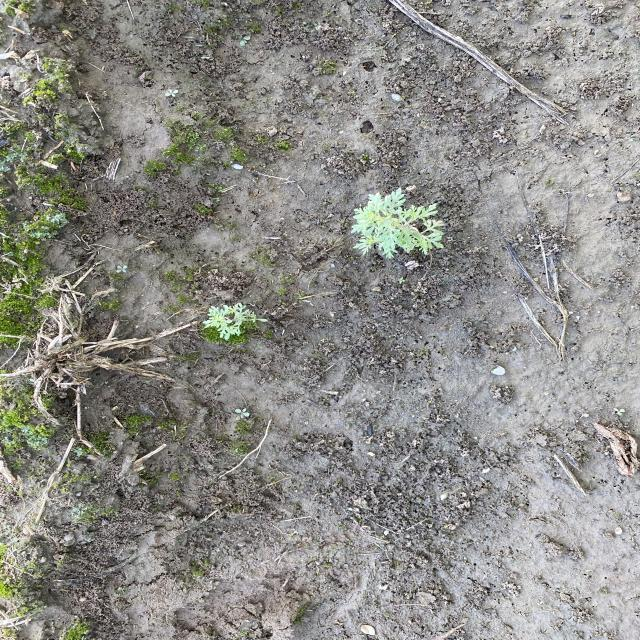Ragweed: (349, 185, 448, 260), (200, 301, 269, 342)
